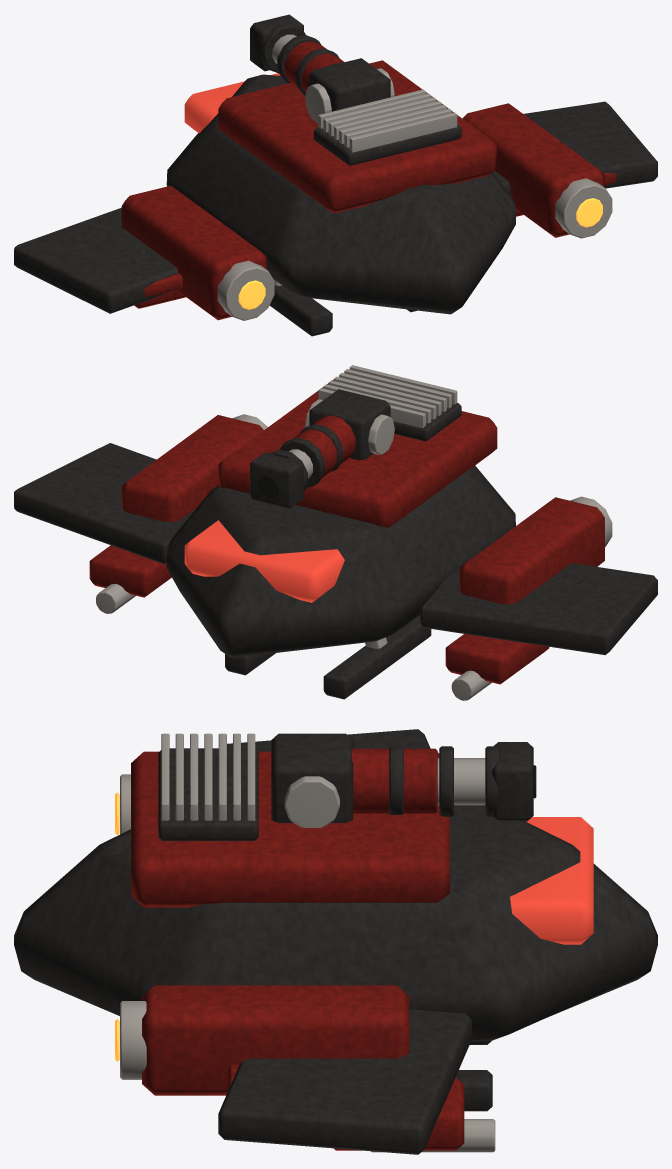
File: kharn_forteresse_volante.gltf
The picture shows the model from 3 angles, top to bottom: view 1: azimuth 30°, elevation 25°; view 2: azimuth 150°, elevation 25°; view 3: azimuth 270°, elevation 25°; orthographic projection. The views are drawn at different scales.
Visible parts, largest first — view 1: Root.003_Geometry, GunRecoil.002_Geometry, GunPitch.002_Geometry, Flap_-1.002_Geometry; view 2: Root.003_Geometry, GunRecoil.002_Geometry, GunPitch.002_Geometry; view 3: Root.003_Geometry, GunRecoil.002_Geometry, GunPitch.002_Geometry.
Part boxes in pixels (left/top/right/bottom): Root.003_Geometry: left=14, top=60, right=657, bottom=336; GunRecoil.002_Geometry: left=250, top=14, right=344, bottom=95; GunPitch.002_Geometry: left=305, top=58, right=394, bottom=123; Flap_-1.002_Geometry: left=144, top=273, right=182, bottom=296; Root.003_Geometry: left=14, top=365, right=657, bottom=700; GunRecoil.002_Geometry: left=250, top=412, right=355, bottom=508; GunPitch.002_Geometry: left=305, top=389, right=394, bottom=460; Root.003_Geometry: left=14, top=729, right=657, bottom=1154; GunRecoil.002_Geometry: left=346, top=742, right=536, bottom=821; GunPitch.002_Geometry: left=271, top=733, right=353, bottom=827.
Bounding box in the file's own units: 5.19 × 1.96 × 3.53.
Materials: 6 (3 with a texture image).
